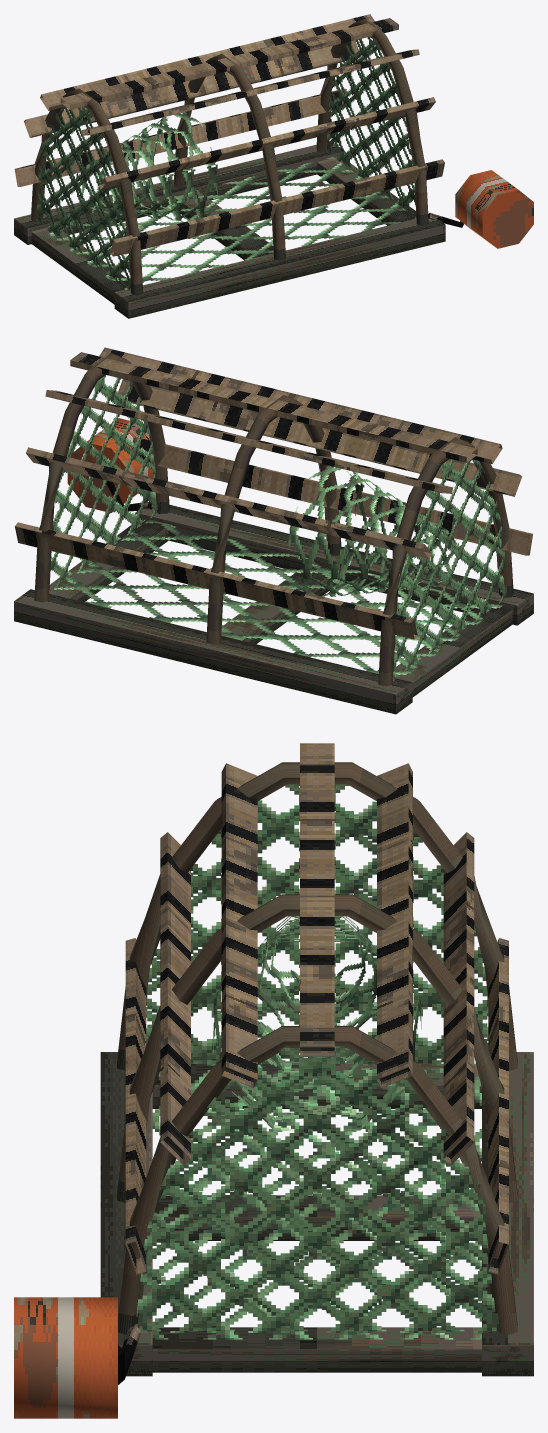
File: lobster_trap.glb
3 renders of one model, top to bottom at view 1: azimuth 30°, elevation 25°; view 2: azimuth 150°, elevation 25°; view 3: azimuth 270°, elevation 25°, orthographic. The views are drawn at different scales.
Visible parts, largest first — view 1: lobster_trap; view 2: lobster_trap; view 3: lobster_trap.
Part boxes in pixels (bbox=[...]): lobster_trap: bbox=[14, 14, 533, 318]; lobster_trap: bbox=[14, 347, 533, 714]; lobster_trap: bbox=[14, 743, 533, 1418].
Size of the model in its own units: 0.9797 by 0.427 by 0.6.
Materials: 1 (1 with a texture image).
